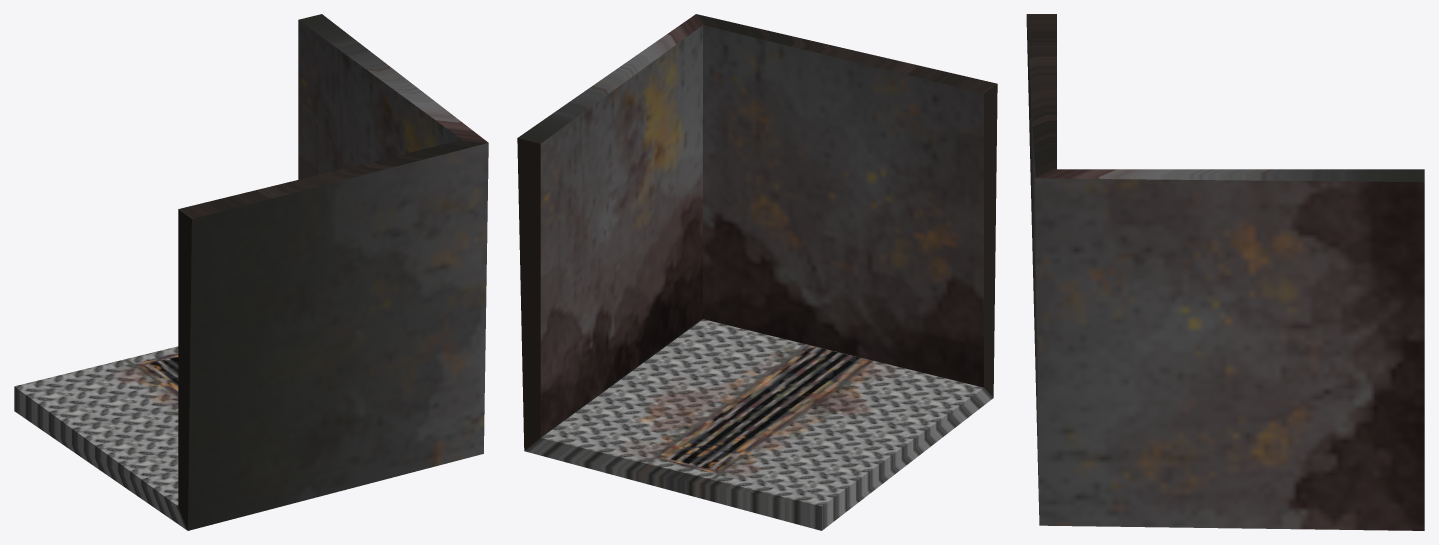
Rendered from FloorTile.004.fbx.
3 renders of one model, left to right at view 1: azimuth 30°, elevation 25°; view 2: azimuth 150°, elevation 25°; view 3: azimuth 270°, elevation 25°, orthographic. The views are drawn at different scales.
Parts seen in each view (by area): view 1: FloorTile.004; view 2: FloorTile.004; view 3: FloorTile.004.
Boxes of the visible parts, left/top/right/bottom form: FloorTile.004: left=14, top=14, right=488, bottom=530; FloorTile.004: left=517, top=14, right=997, bottom=530; FloorTile.004: left=1026, top=14, right=1424, bottom=530.
Size of the model in its own units: 650 by 650 by 650.
